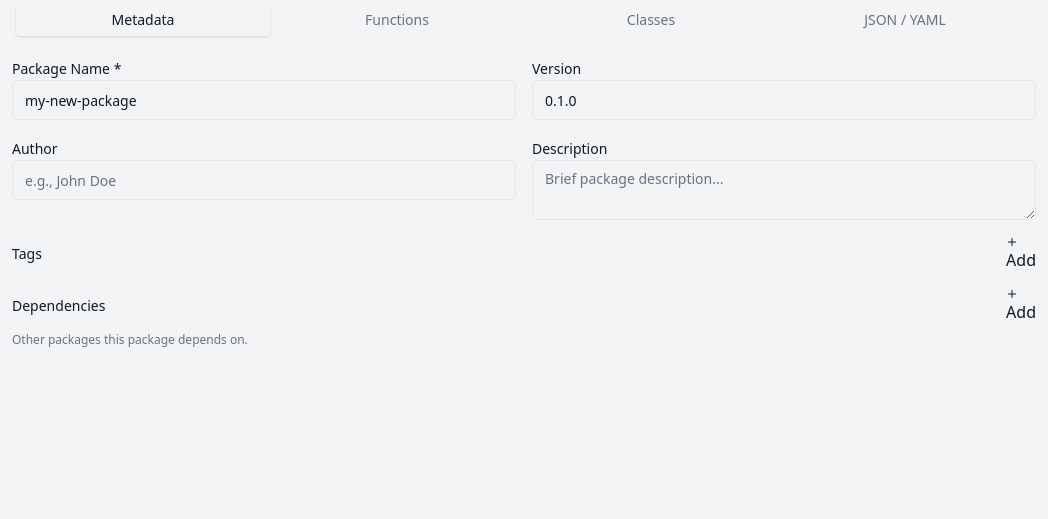
Test: PackageForm › renders JSON/YAML tab with format switcher
Click the tab "JSON / YAML". click: [905, 20]
box: x1=778 y1=4 x2=1032 y2=36
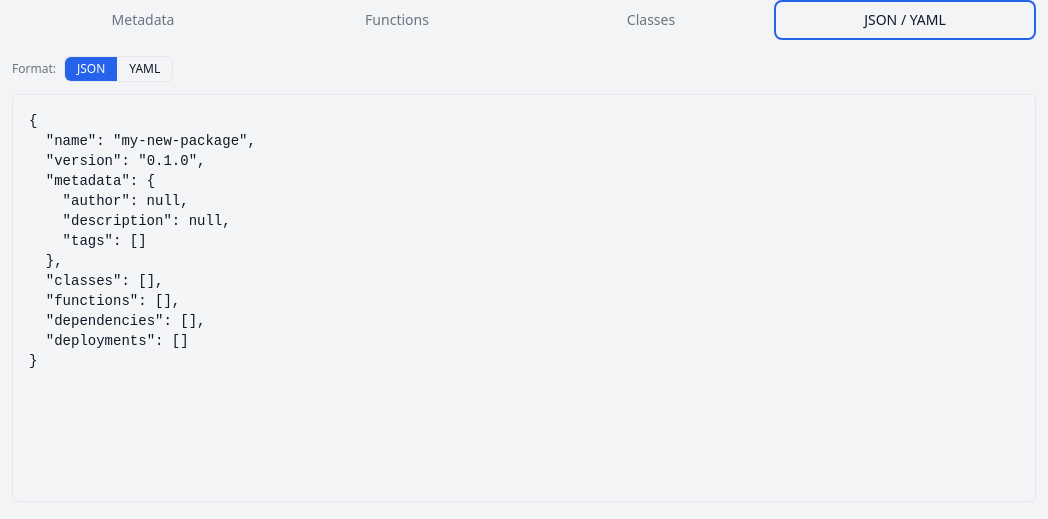
Now the button "JSON" is shown, box x1=65 y1=57 x2=117 y2=81
Now the button "YAML" is shown, box x1=117 y1=57 x2=172 y2=81
